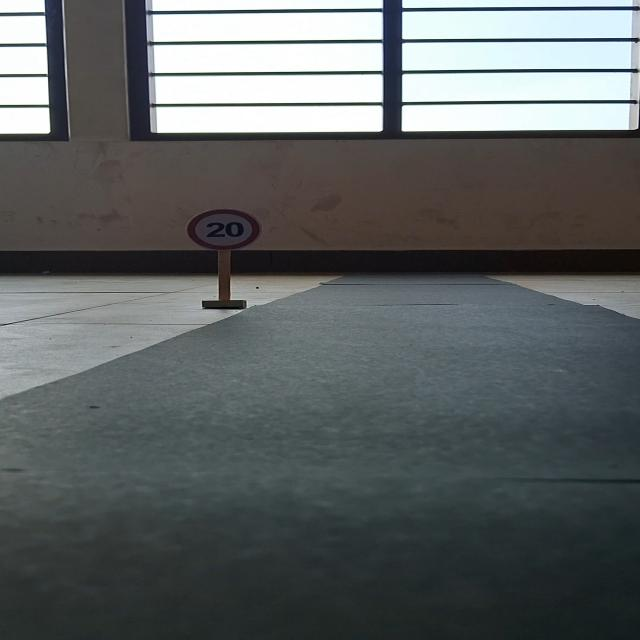Speed20: (178, 204, 267, 254)
